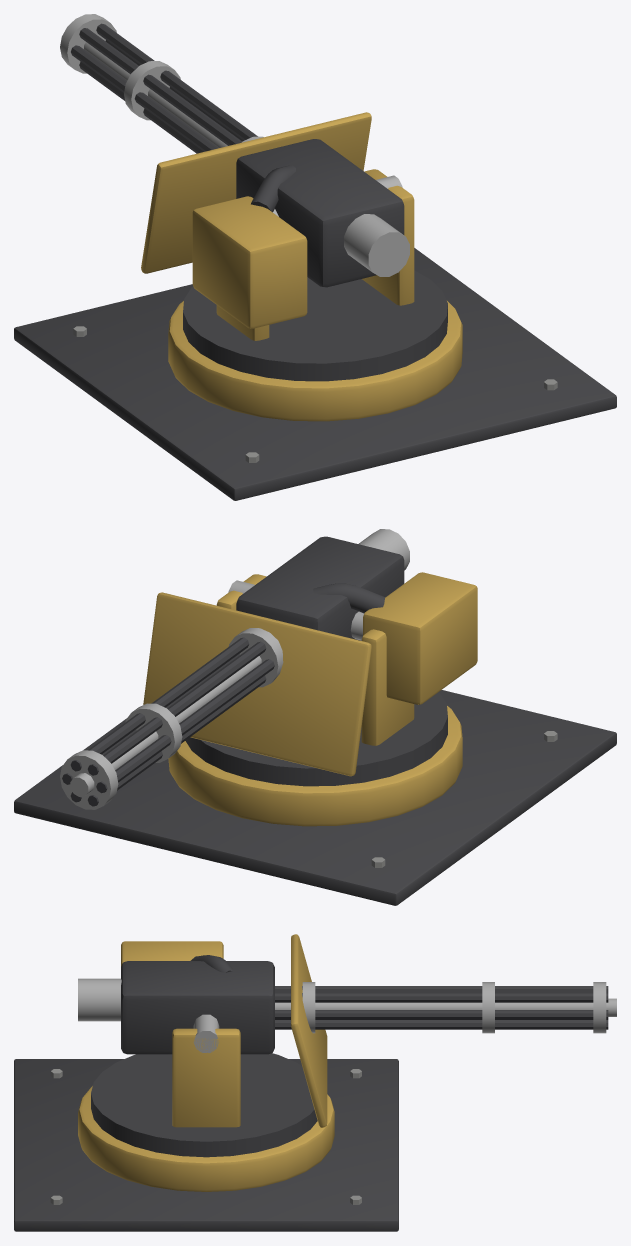
File: minigun.glb
3 views of the same model, one above another, from view 1: azimuth 30°, elevation 25°; view 2: azimuth 150°, elevation 25°; view 3: azimuth 270°, elevation 25° (orthographic). The views are drawn at different scales.
Parts seen in each view (by area): view 1: Part, Turret, Gun, Barrels; view 2: Part, Turret, Gun, Barrels; view 3: Part, Turret, Gun, Barrels.
Part boxes in pixels (<box>): Part: <box>14,248,616,500</box>; Turret: <box>141,112,447,381</box>; Gun: <box>192,139,409,328</box>; Barrels: <box>60,14,263,153</box>; Part: <box>14,690,616,905</box>; Turret: <box>143,574,447,786</box>; Gun: <box>228,529,477,704</box>; Barrels: <box>60,628,283,809</box>; Part: <box>14,1059,398,1231</box>; Turret: <box>91,934,327,1157</box>; Gun: <box>78,941,274,1054</box>; Barrels: <box>275,982,616,1033</box>.
Size of the model in its own units: 0.9 by 0.4652 by 1.41.
